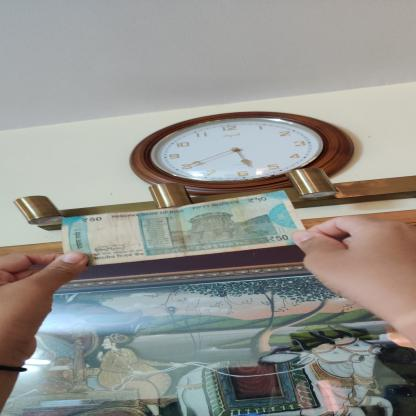New50Back: (62, 189, 306, 264)
